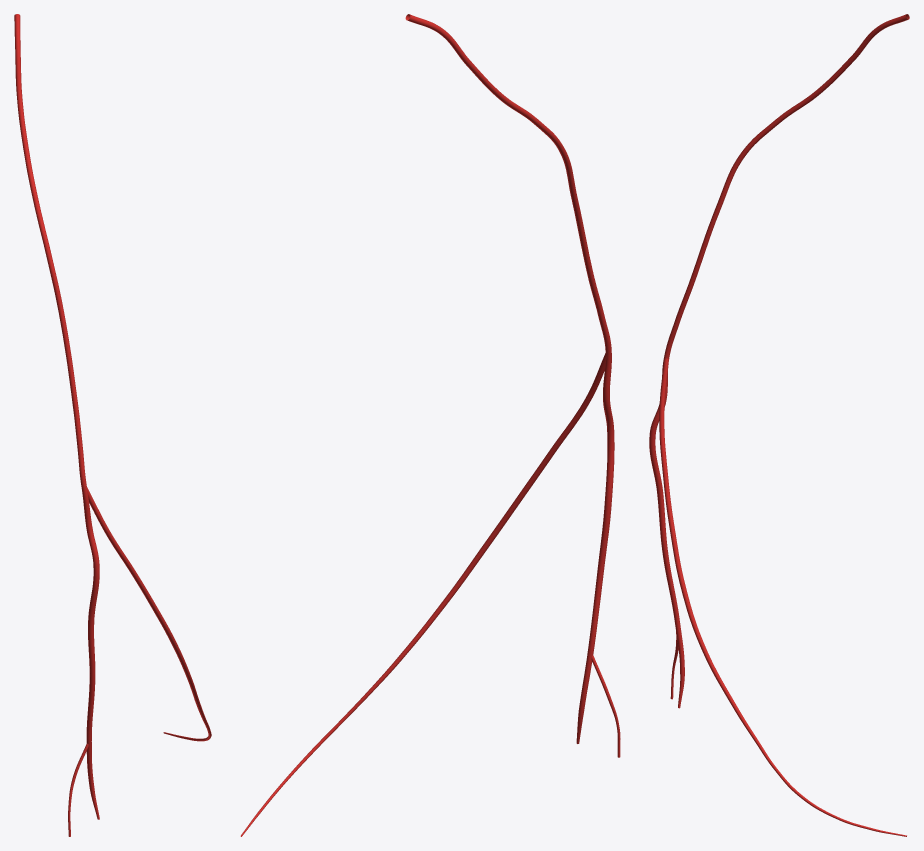
The model's file is circulatorio-internal-thoracic-artery-l.glb.
3 renders of one model, left to right at view 1: azimuth 30°, elevation 25°; view 2: azimuth 150°, elevation 25°; view 3: azimuth 270°, elevation 25°, orthographic. The views are drawn at different scales.
Parts seen in each view (by area): view 1: Internal thoracic artery.l, Superior epigastric artery.l, Musculophrenic artery.l; view 2: Musculophrenic artery.l, Superior epigastric artery.l, Internal thoracic artery.l; view 3: Musculophrenic artery.l, Internal thoracic artery.l, Superior epigastric artery.l.
Part boxes in pixels (bbox=[...]): Internal thoracic artery.l: bbox=[14, 14, 86, 487]; Superior epigastric artery.l: bbox=[68, 487, 99, 836]; Musculophrenic artery.l: bbox=[86, 487, 211, 741]; Musculophrenic artery.l: bbox=[240, 353, 606, 836]; Superior epigastric artery.l: bbox=[576, 353, 620, 757]; Internal thoracic artery.l: bbox=[405, 14, 611, 354]; Musculophrenic artery.l: bbox=[659, 358, 906, 836]; Internal thoracic artery.l: bbox=[664, 14, 909, 358]; Superior epigastric artery.l: bbox=[649, 358, 684, 708].
Bounding box in the file's own units: 0.1051 × 0.3506 × 0.1101.
